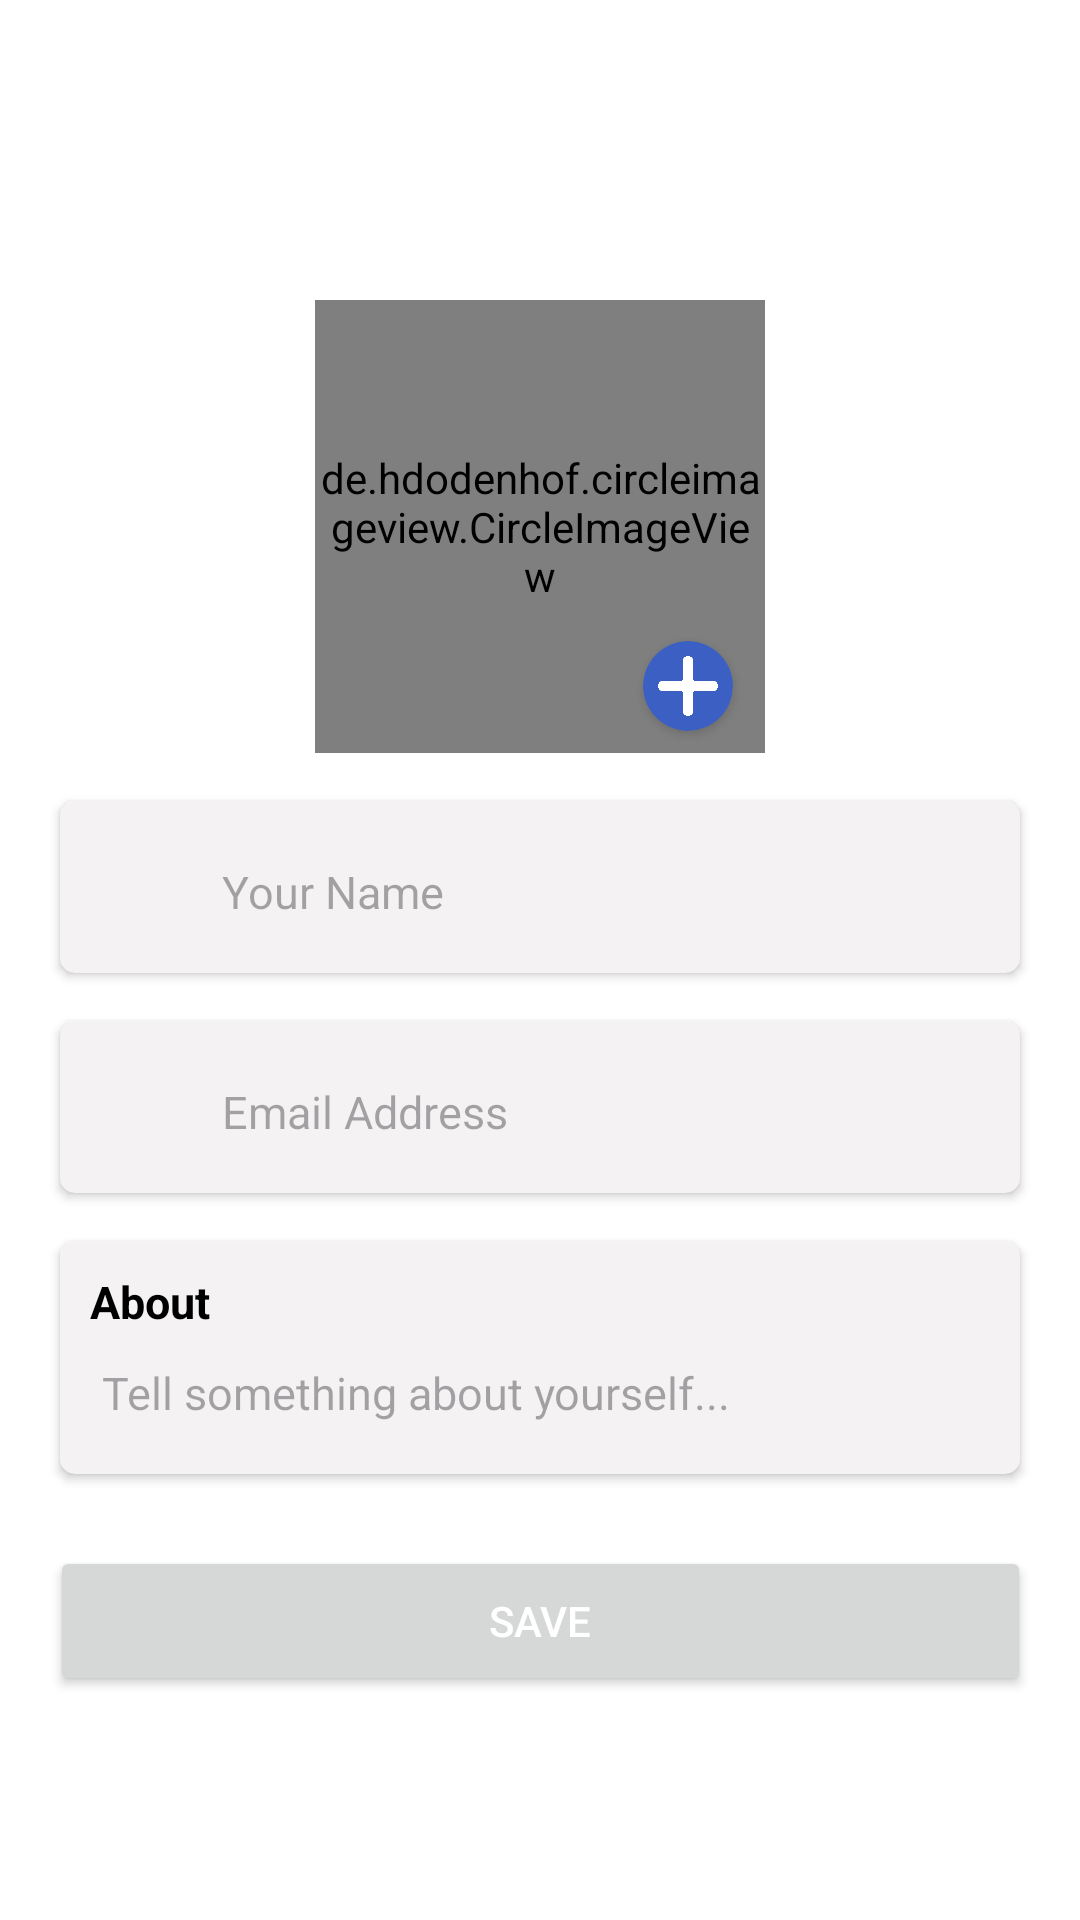

Point at icon controls on the screen. Image size 1080×1920, points as (x=x, y=y).
add: (x=688, y=686)
